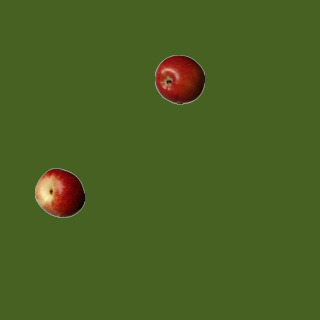Apple Braeburn: (154, 54, 204, 104)
Nectarine: (34, 167, 84, 217)
